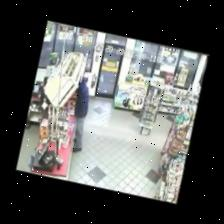person: (72, 78, 88, 152)
